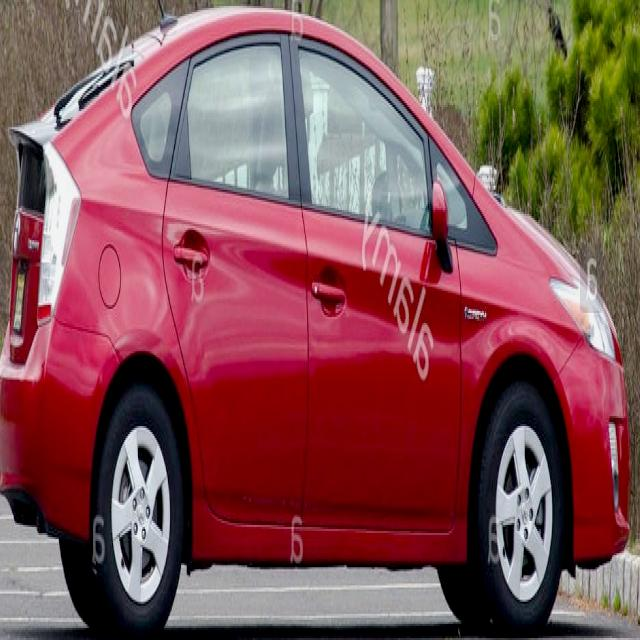red: (0, 27, 631, 607)
